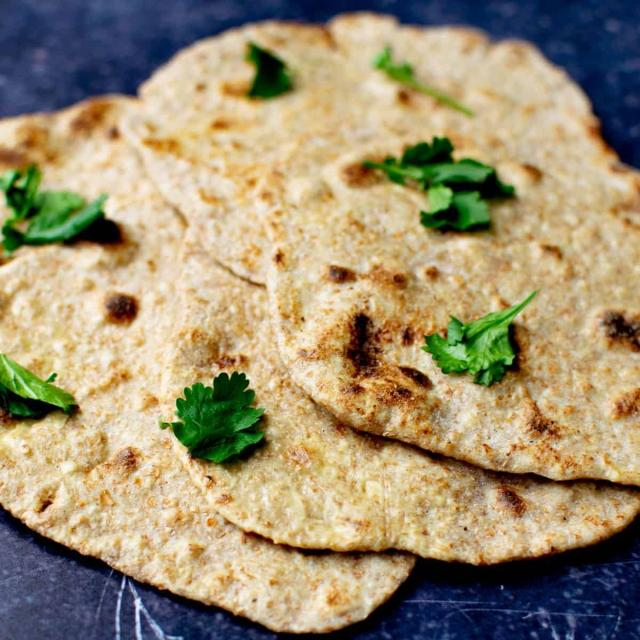dosa: (0, 233, 439, 640), (261, 118, 640, 502), (135, 7, 604, 285)
